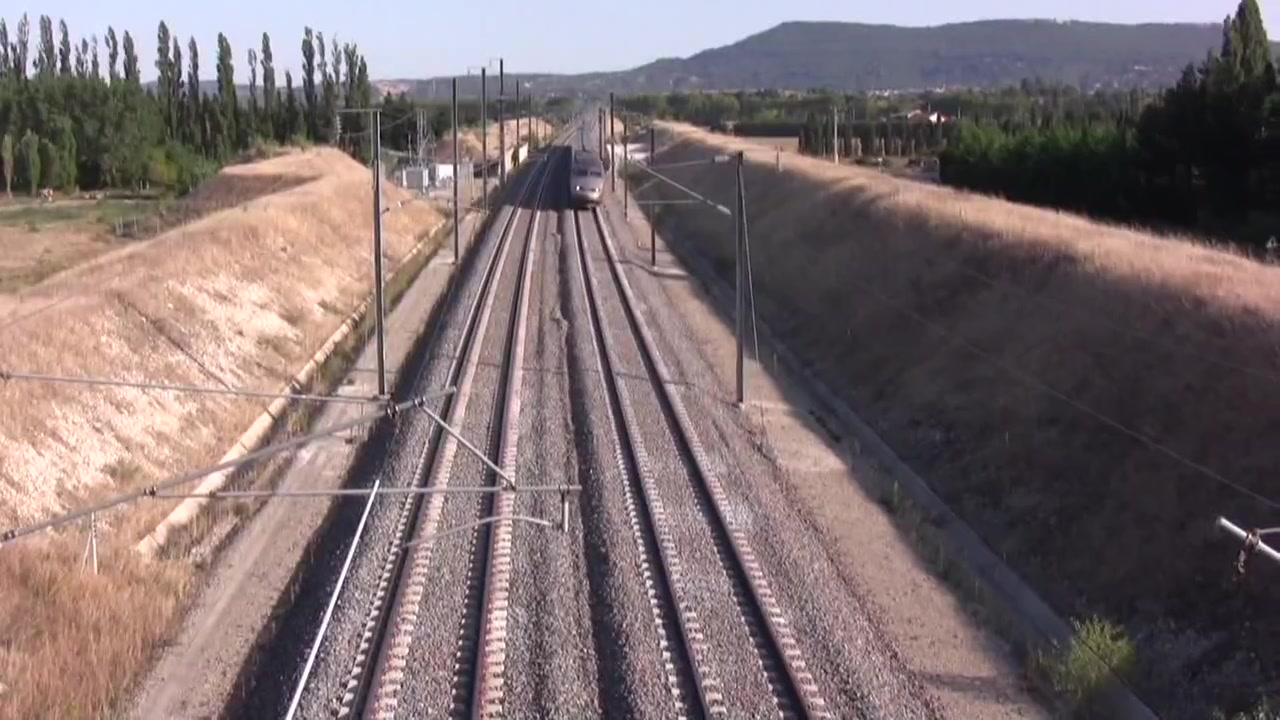train: (567, 136, 610, 211)
